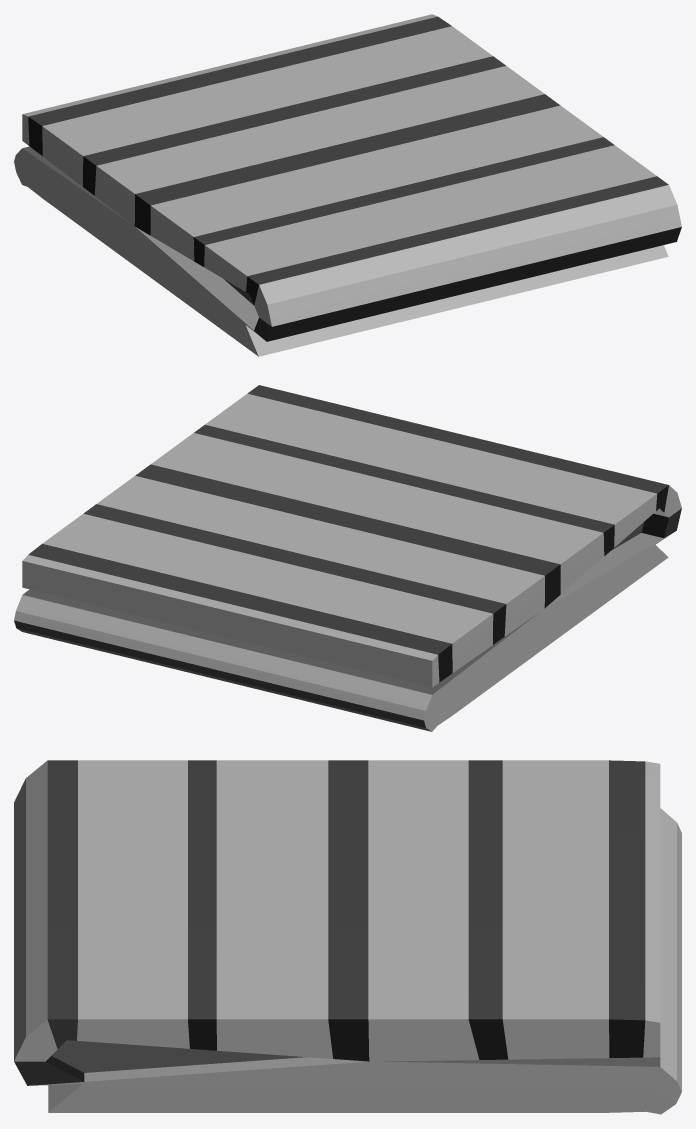
The model's file is TowelModel.fbx.
3 renders of one model, top to bottom at view 1: azimuth 30°, elevation 25°; view 2: azimuth 150°, elevation 25°; view 3: azimuth 270°, elevation 25°, orthographic. The views are drawn at different scales.
Parts seen in each view (by area): view 1: TowelModel; view 2: TowelModel; view 3: TowelModel.
Boxes of the visible parts, x1=… form: TowelModel: x1=14, y1=14, x2=681, y2=356; TowelModel: x1=14, y1=385, x2=681, y2=731; TowelModel: x1=14, y1=760, x2=681, y2=1114.
Size of the model in its own units: 88.36 by 15.13 by 96.32.
